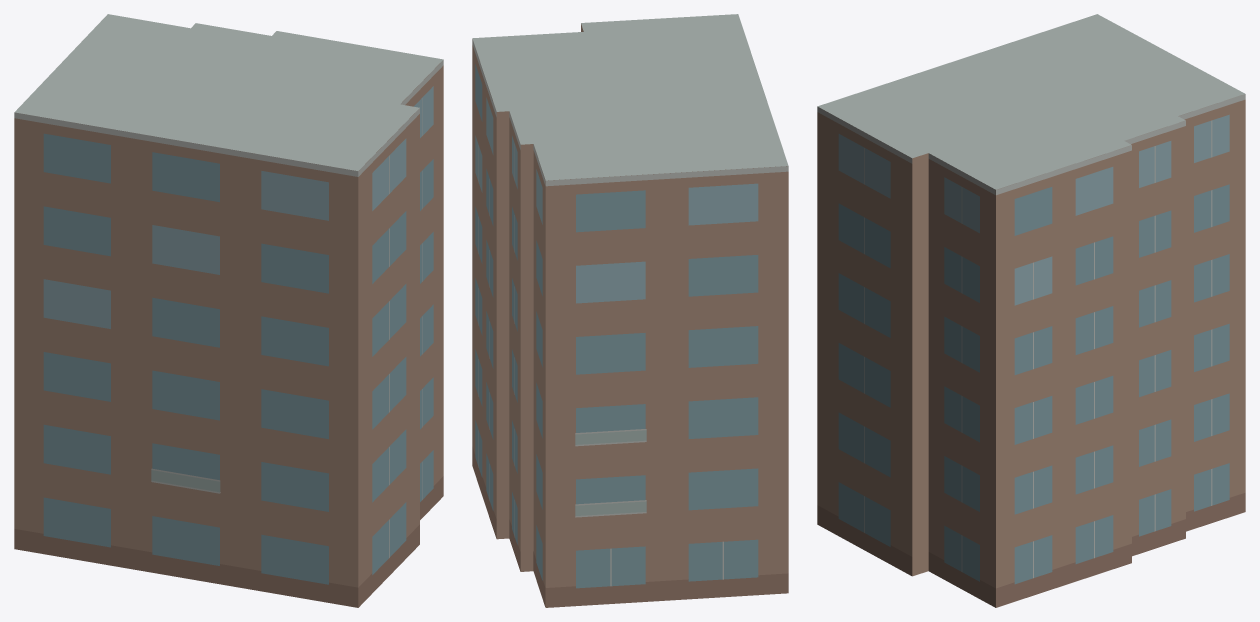
File: survey-upis-32669071.glb
3 views of the same model, side by side, from view 1: azimuth 30°, elevation 25°; view 2: azimuth 150°, elevation 25°; view 3: azimuth 270°, elevation 25° (orthographic). The views are drawn at different scales.
Parts seen in each view (by area): view 1: survey-upis-32669071.tmp; view 2: survey-upis-32669071.tmp; view 3: survey-upis-32669071.tmp.
Part boxes in pixels (x1=…): survey-upis-32669071.tmp: x1=14, y1=14, x2=443, y2=607; survey-upis-32669071.tmp: x1=472, y1=14, x2=788, y2=607; survey-upis-32669071.tmp: x1=817, y1=14, x2=1245, y2=607.
Bounding box in the file's own units: 16.51 × 18.3 × 17.
